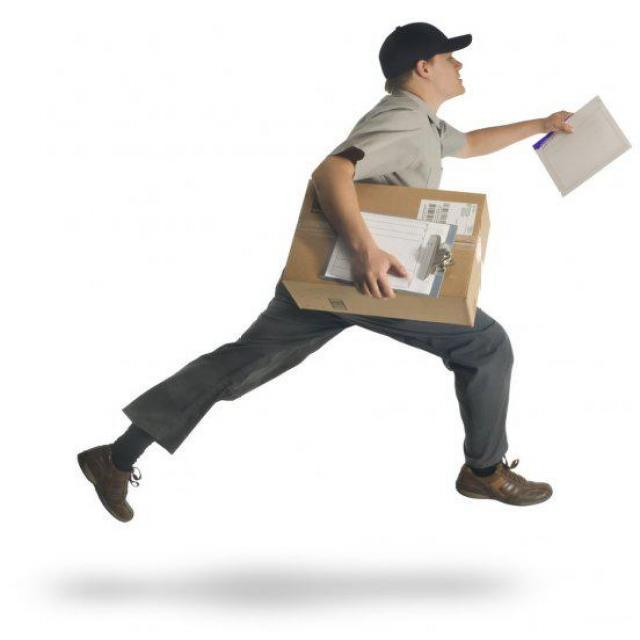box: (286, 172, 488, 333)
